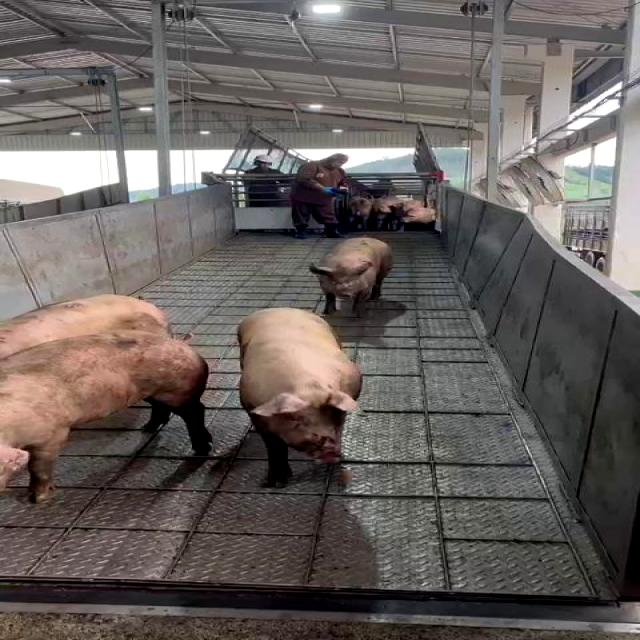pig: (1, 331, 211, 501), (239, 309, 361, 485), (0, 295, 166, 358), (312, 238, 392, 315)
